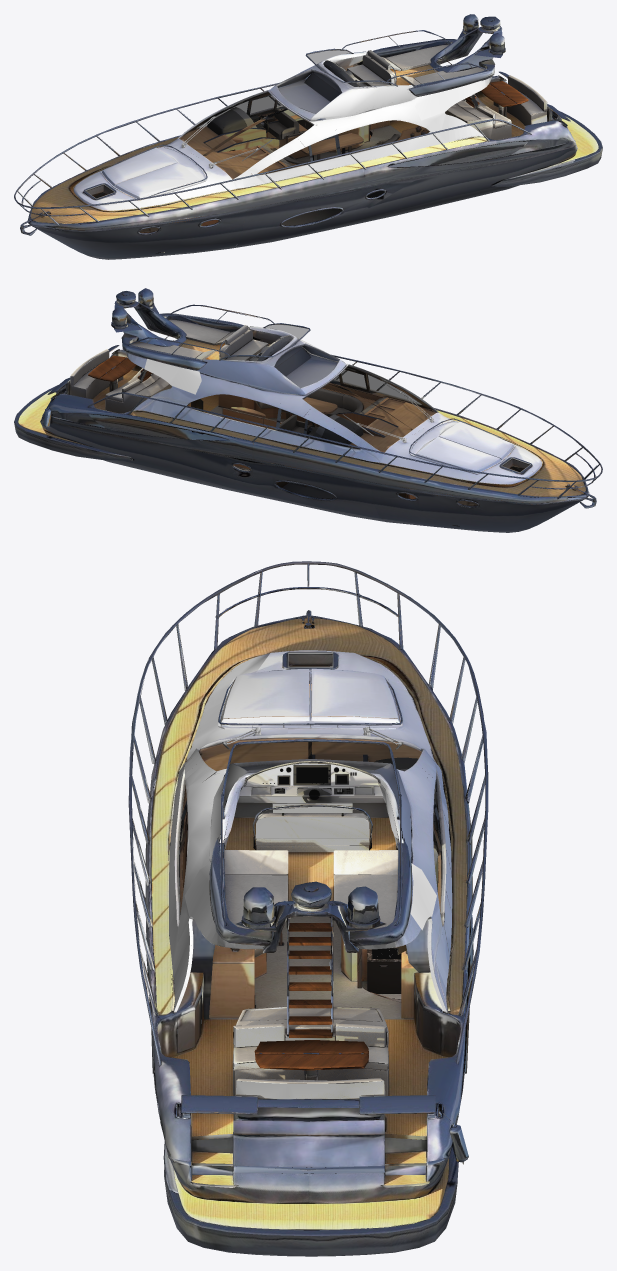
File: newyacht2.glb
3 views of the same model, one above another, from view 1: azimuth 30°, elevation 25°; view 2: azimuth 150°, elevation 25°; view 3: azimuth 270°, elevation 25° (orthographic). The views are drawn at different scales.
Parts seen in each view (by area): view 1: PavimentoSopra001.003_PlasticaBarca.005_0_5, PavimentoSopra001.003_PlasticaBiancaRiflettente.001_0_20, PavimentoSopra001.003_VetroNero.001_0_23, PavimentoSopra001.003_PlasticaBarca.006_0_7, PavimentoSopra001.003_PavimentoLegno.001_0_27, PavimentoSopra001.003_leather.001_0_9, PavimentoSopra001.003_PlasticaBarca.002_0_14, PavimentoSopra001.003_LegnoChiaro.001_0_18, PavimentoSopra001.003_Material #2301.003_0_19, PavimentoSopra001.003_logo_0_4, PavimentoSopra001.003_Cromato.016_0_6, PavimentoSopra001.003_Cromato.001_0_30 (+1 smaller); view 2: PavimentoSopra001.003_PlasticaBarca.005_0_5, PavimentoSopra001.003_PlasticaBiancaRiflettente.001_0_20, PavimentoSopra001.003_VetroNero.001_0_23, PavimentoSopra001.003_PlasticaBarca.006_0_7, PavimentoSopra001.003_PavimentoLegno.001_0_27, PavimentoSopra001.003_leather.001_0_9, PavimentoSopra001.003_PlasticaBarca.002_0_14, PavimentoSopra001.003_LegnoChiaro.001_0_18, PavimentoSopra001.003_logo_0_4, PavimentoSopra001.003_Cromato.016_0_6, PavimentoSopra001.003_LegnoScuro.001_0_10, PavimentoSopra001.003_Cromato.001_0_30 (+1 smaller); view 3: PavimentoSopra001.003_PavimentoLegno.001_0_27, PavimentoSopra001.003_PlasticaBiancaRiflettente.001_0_20, PavimentoSopra001.003_PlasticaBarca.005_0_5, PavimentoSopra001.003_PlasticaBarca.006_0_7, PavimentoSopra001.003_leather.001_0_9, PavimentoSopra001.003_PlasticaBarca.002_0_14, PavimentoSopra001.003_LegnoChiaro.001_0_18, PavimentoSopra001.003_VetroNero.001_0_23, PavimentoSopra001.003_LegnoScuro.001_0_10, PavimentoSopra001.003_Cromato.016_0_6, PavimentoSopra001.003_Material #2301.003_0_19, PavimentoSopra001.003_logo_0_4 (+1 smaller).
Boxes of the visible parts, <box> form: PavimentoSopra001.003_PlasticaBarca.005_0_5: <box>27,76,577,259</box>; PavimentoSopra001.003_PlasticaBiancaRiflettente.001_0_20: <box>74,51,491,211</box>; PavimentoSopra001.003_VetroNero.001_0_23: <box>87,50,429,232</box>; PavimentoSopra001.003_PlasticaBarca.006_0_7: <box>14,26,602,234</box>; PavimentoSopra001.003_PavimentoLegno.001_0_27: <box>30,61,598,224</box>; PavimentoSopra001.003_leather.001_0_9: <box>260,45,547,168</box>; PavimentoSopra001.003_PlasticaBarca.002_0_14: <box>17,14,570,235</box>; PavimentoSopra001.003_LegnoChiaro.001_0_18: <box>78,109,441,232</box>; PavimentoSopra001.003_Material #2301.003_0_19: <box>151,125,401,230</box>; PavimentoSopra001.003_logo_0_4: <box>415,84,472,120</box>; PavimentoSopra001.003_Cromato.016_0_6: <box>304,60,367,101</box>; PavimentoSopra001.003_Cromato.001_0_30: <box>207,107,268,134</box>; PavimentoSopra001.003_PlasticaBarca.005_0_5: <box>40,349,588,532</box>; PavimentoSopra001.003_PlasticaBiancaRiflettente.001_0_20: <box>125,326,542,484</box>; PavimentoSopra001.003_VetroNero.001_0_23: <box>187,325,529,506</box>; PavimentoSopra001.003_PlasticaBarca.006_0_7: <box>14,300,602,508</box>; PavimentoSopra001.003_PavimentoLegno.001_0_27: <box>18,335,585,498</box>; PavimentoSopra001.003_leather.001_0_9: <box>70,319,386,434</box>; PavimentoSopra001.003_PlasticaBarca.002_0_14: <box>47,288,599,508</box>; PavimentoSopra001.003_LegnoChiaro.001_0_18: <box>184,383,538,508</box>; PavimentoSopra001.003_logo_0_4: <box>144,359,201,394</box>; PavimentoSopra001.003_Cromato.016_0_6: <box>249,335,310,375</box>; PavimentoSopra001.003_LegnoScuro.001_0_10: <box>88,340,173,381</box>; PavimentoSopra001.003_Cromato.001_0_30: <box>298,414,363,446</box>; PavimentoSopra001.003_PavimentoLegno.001_0_27: <box>151,617,467,1230</box>; PavimentoSopra001.003_PlasticaBiancaRiflettente.001_0_20: <box>169,650,452,1014</box>; PavimentoSopra001.003_PlasticaBarca.005_0_5: <box>145,615,472,1203</box>; PavimentoSopra001.003_PlasticaBarca.006_0_7: <box>128,561,488,1256</box>; PavimentoSopra001.003_leather.001_0_9: <box>223,802,438,1128</box>; PavimentoSopra001.003_PlasticaBarca.002_0_14: <box>129,563,487,1118</box>; PavimentoSopra001.003_LegnoChiaro.001_0_18: <box>179,665,453,1018</box>; PavimentoSopra001.003_VetroNero.001_0_23: <box>177,654,444,924</box>; PavimentoSopra001.003_LegnoScuro.001_0_10: <box>254,923,368,1070</box>; PavimentoSopra001.003_Cromato.016_0_6: <box>225,761,410,817</box>; PavimentoSopra001.003_Material #2301.003_0_19: <box>186,846,413,1019</box>; PavimentoSopra001.003_logo_0_4: <box>184,863,436,930</box>.
Bounding box in the file's own units: 3.64 × 0.9261 × 1.
32 materials, 18 textured.
